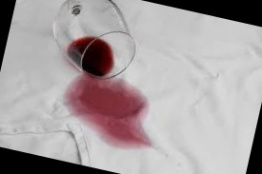wine: (59, 71, 161, 148)
